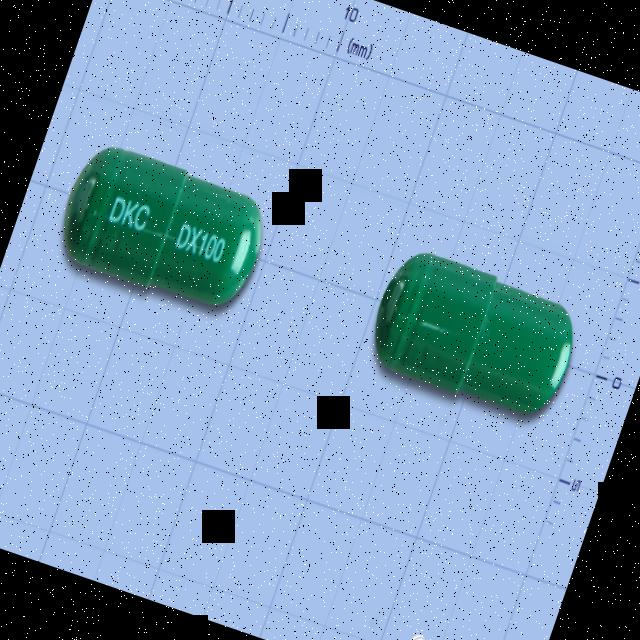Doxiramycin Cap: (48, 134, 278, 322)
